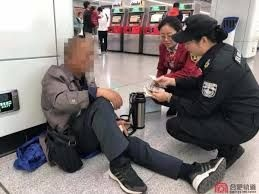falling: (32, 39, 225, 194)
